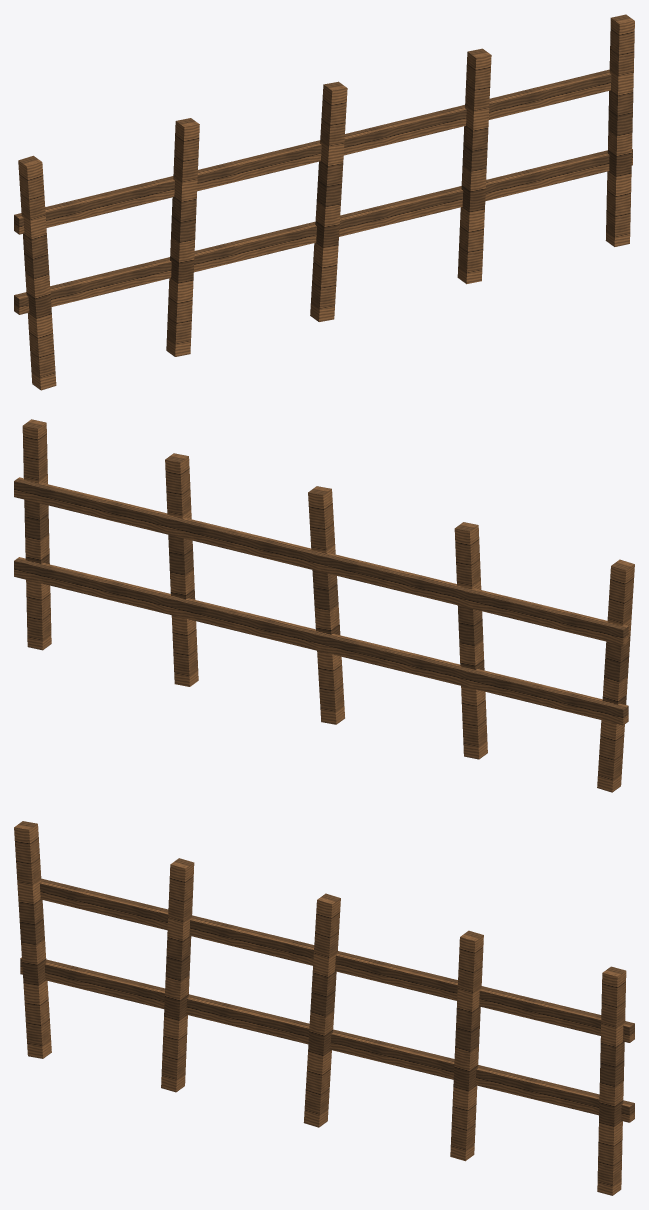
File: Fence.fbx
The picture shows the model from 3 angles, top to bottom: view 1: azimuth 30°, elevation 25°; view 2: azimuth 150°, elevation 25°; view 3: azimuth 330°, elevation 25°; orthographic projection.
Parts seen in each view (by area): view 1: Fence; view 2: Fence; view 3: Fence.
Part boxes in pixels (box(x1,y1,x2,y2)): Fence: box(14, 14, 634, 390); Fence: box(14, 419, 634, 792); Fence: box(14, 821, 634, 1195).
Bounding box in the file's own units: 4 × 1.43 × 0.14.
